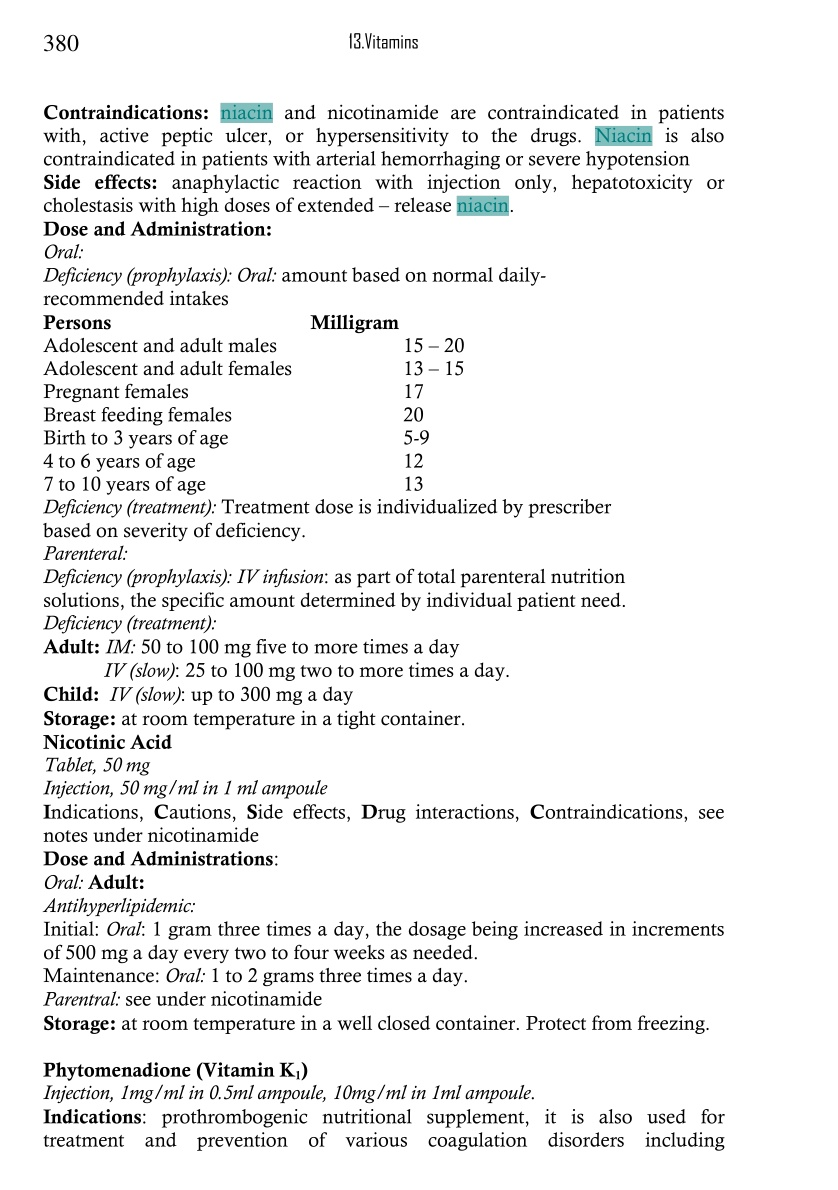nolines: (37, 312, 467, 494)
